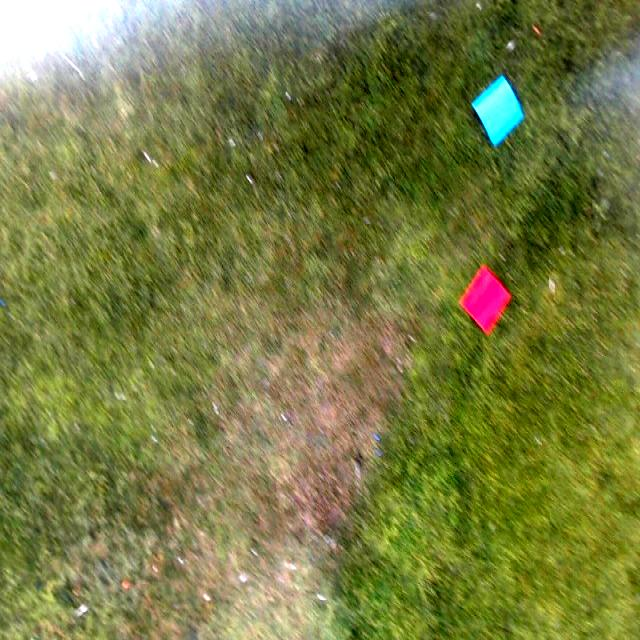blue_square: (472, 75, 522, 144)
red_square: (459, 265, 511, 332)
